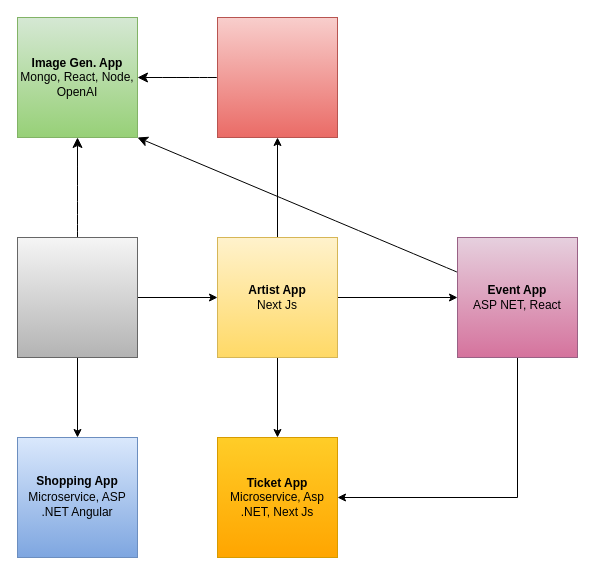
The diagram is 595 pixels wide and 575 high, and some of its shapes have lost their labels. Each missing label, with the centre of its shape:
Music App Mongo, Node, React: the point at 77,297
Video App T3 Stack, Next JS: the point at 277,77
